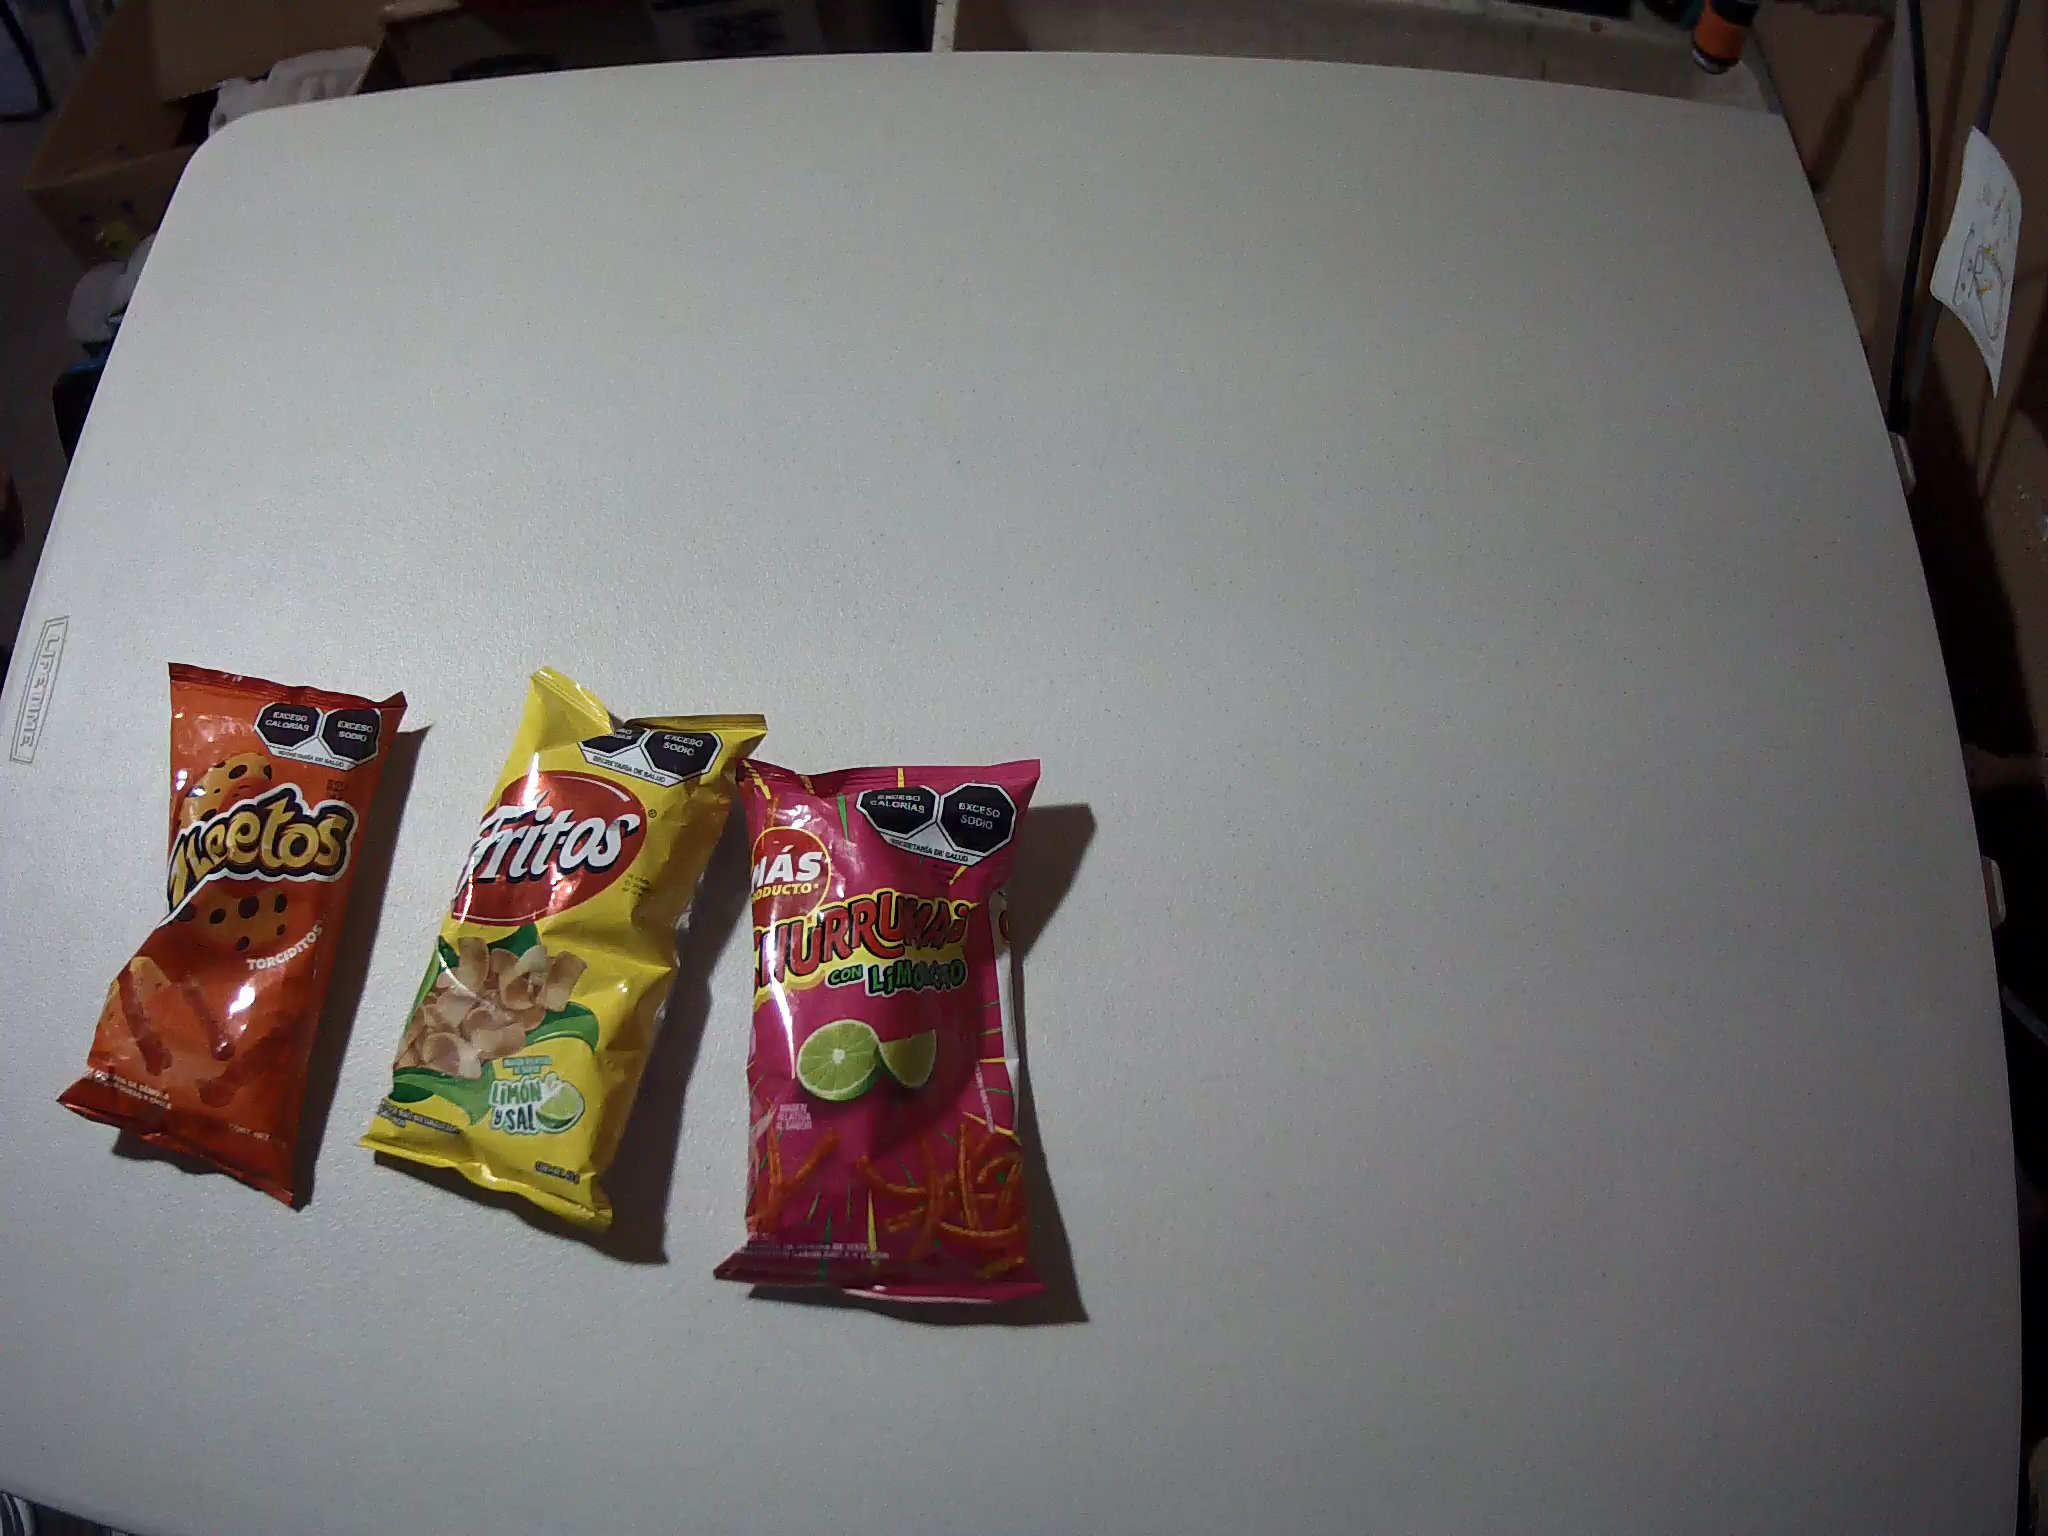CheetosTorciditos_55_F: (56, 663, 408, 1217)
Churrumais_70_F: (714, 758, 1056, 1312)
FritosSalLimon_65_F: (355, 665, 772, 1246)
